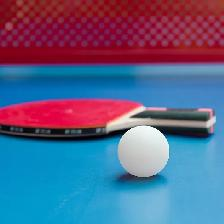WhiteBall: (116, 124, 169, 177)
